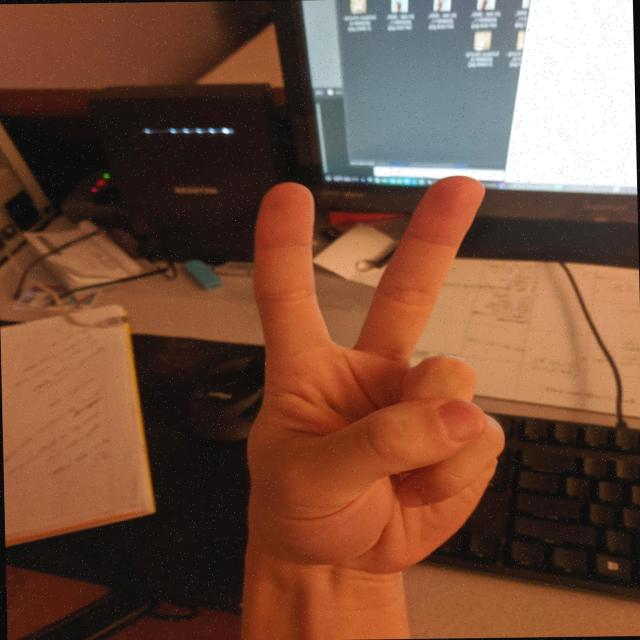V: (226, 166, 516, 582)
